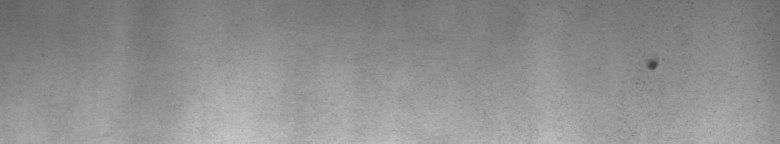fi: (644, 52, 665, 76)
